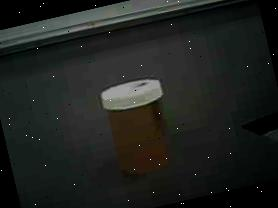Bottle B: (88, 65, 188, 190)
